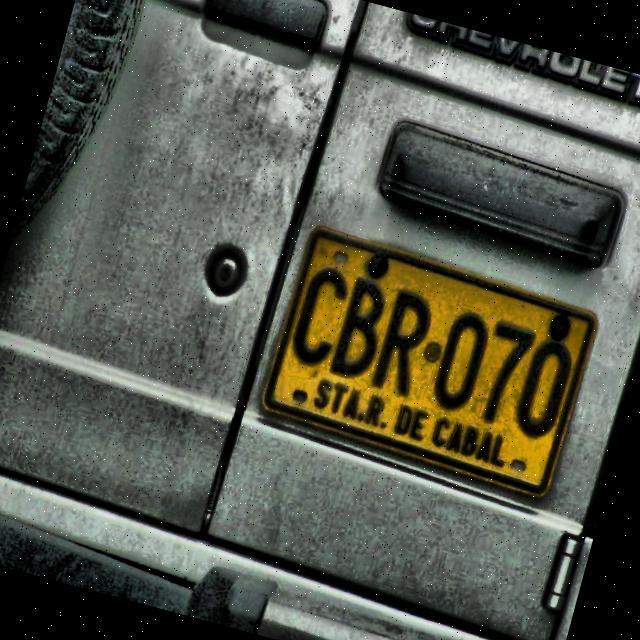0: (424, 299, 496, 416), (510, 324, 579, 442)
7: (468, 312, 540, 430)
B: (327, 271, 395, 385)
C: (286, 258, 356, 372)
R: (365, 281, 440, 401)
